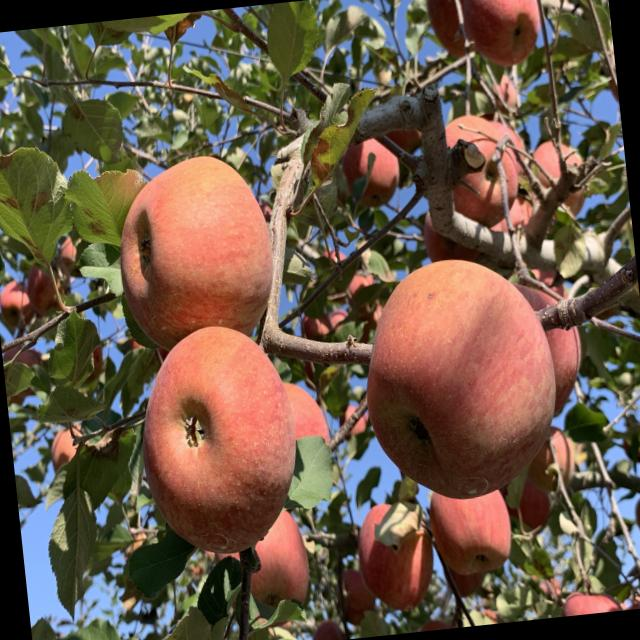fresh: (349, 245, 572, 512), (124, 313, 314, 566), (105, 141, 289, 362)
